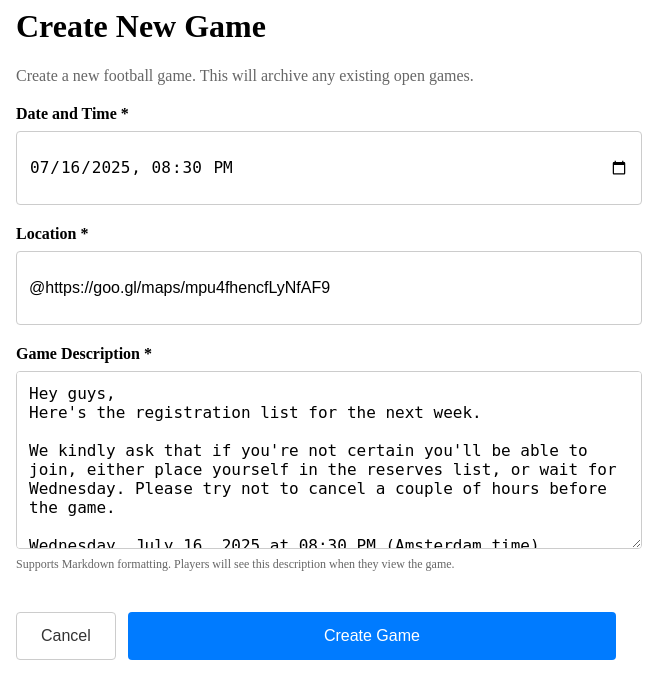
CreateGameForm › shows validation errors when fields are cleared
Clear the field labelled "Date and Time *" at (329, 168), box [16,131,642,205]
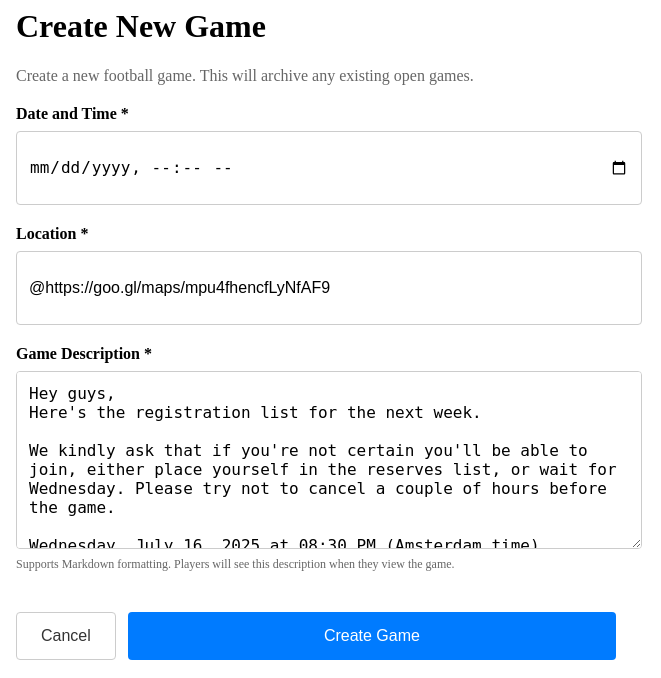
Clear the field labelled "Location *" at (329, 288), box [16,251,642,325]
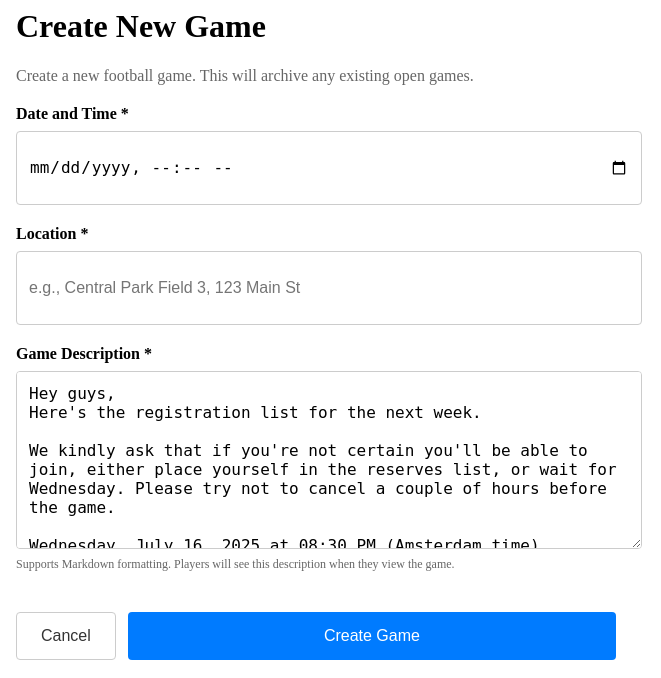
Clear the text box labelled "Game Description *" at (329, 460), box [16,371,642,549]
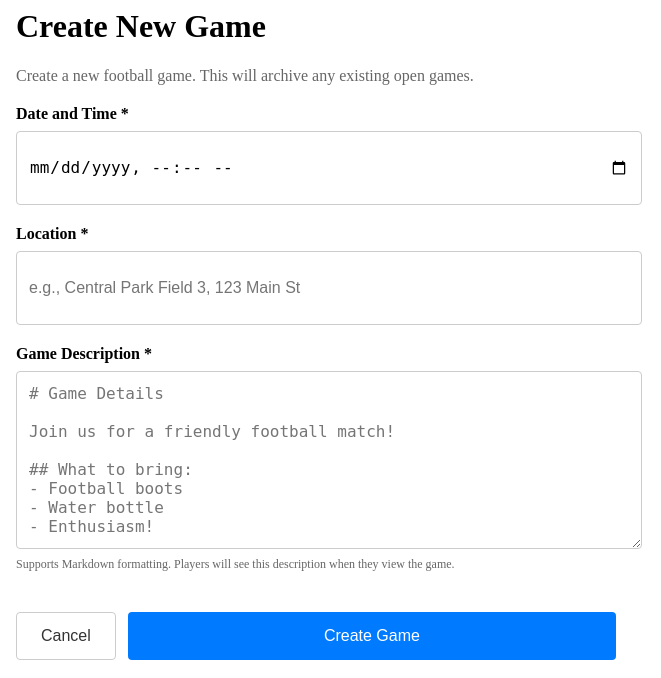
Click the button "Create Game" at (372, 636), box [128,612,616,660]
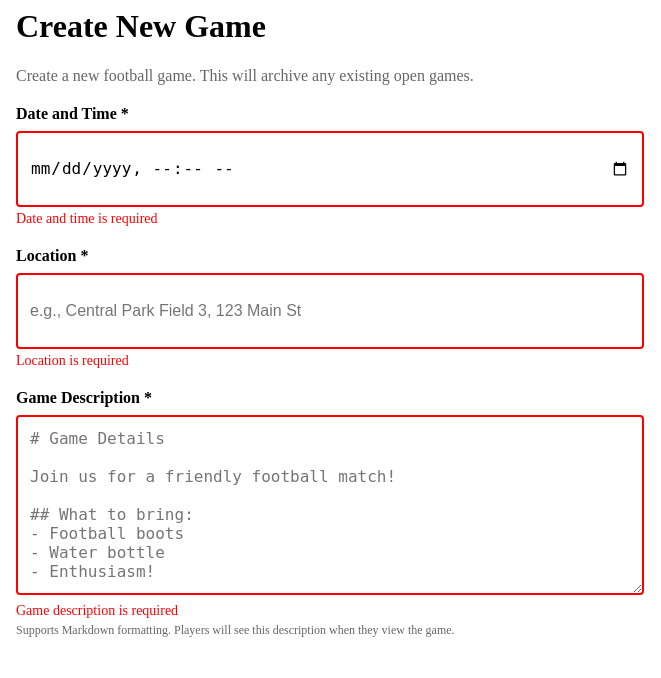
Result: the text "Date and time is required" is shown at [16,211,158,226]
Result: the text "Location is required" is shown at [16,353,129,368]
Result: the text "Game description is required" is shown at [16,603,178,618]
